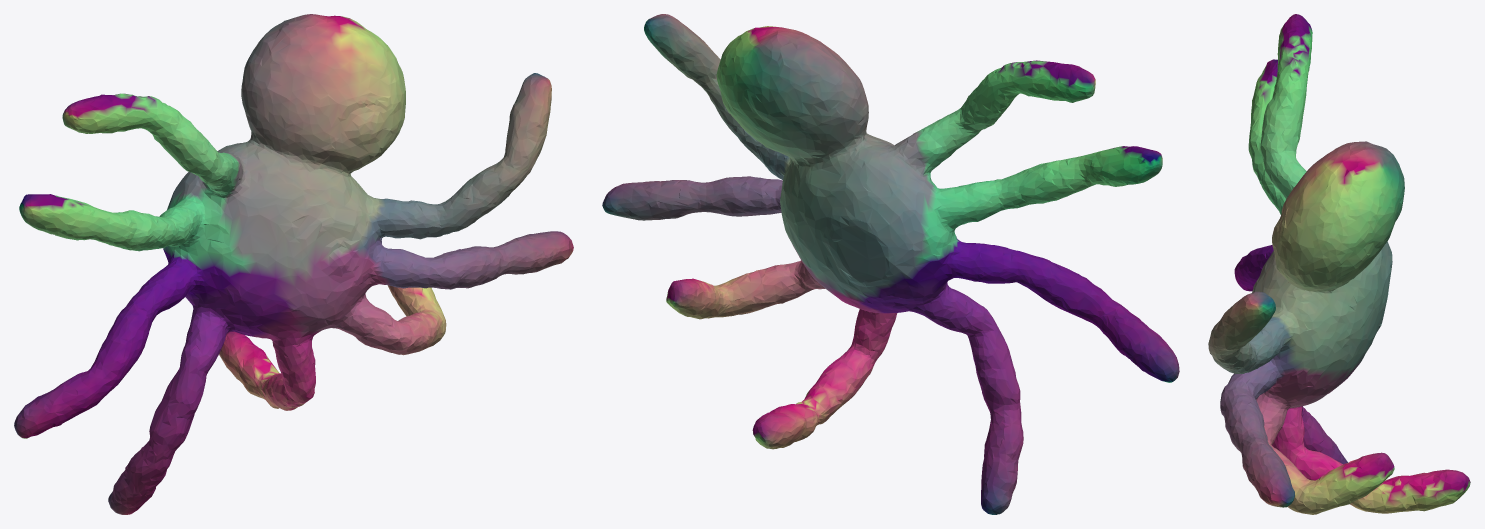
Rendered from spider-19.off.obj.
3 renders of one model, left to right at view 1: azimuth 30°, elevation 25°; view 2: azimuth 150°, elevation 25°; view 3: azimuth 270°, elevation 25°, orthographic.
Bounding box in the file's own units: 1.68 × 1.27 × 0.6841.
